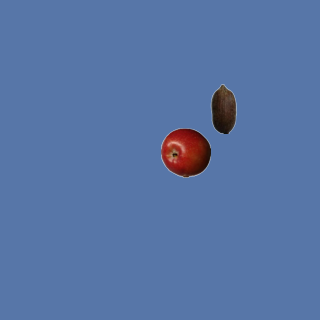Apple Braeburn: (160, 127, 210, 177)
Nut Pecan: (198, 83, 248, 133)
